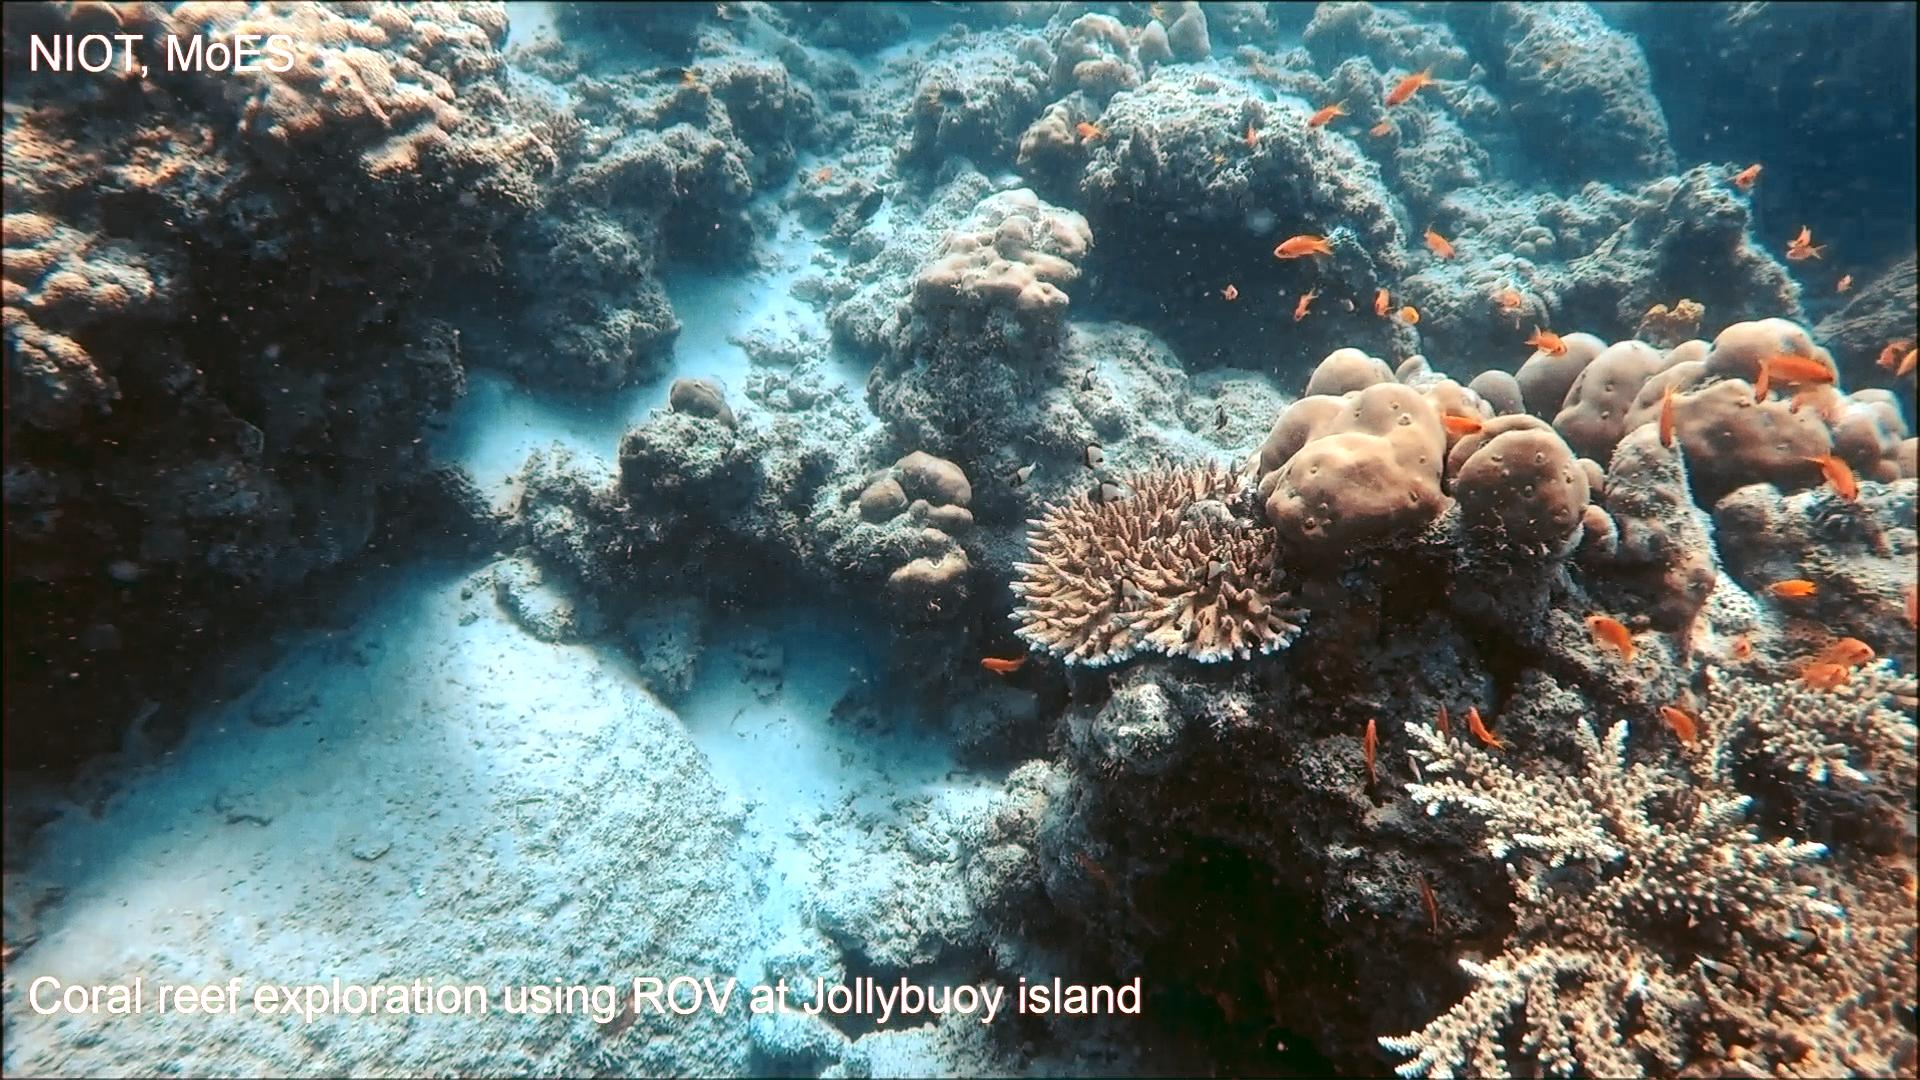Porites-Porites pukoensis: (1245, 342, 1594, 580), (1494, 311, 1920, 501)
